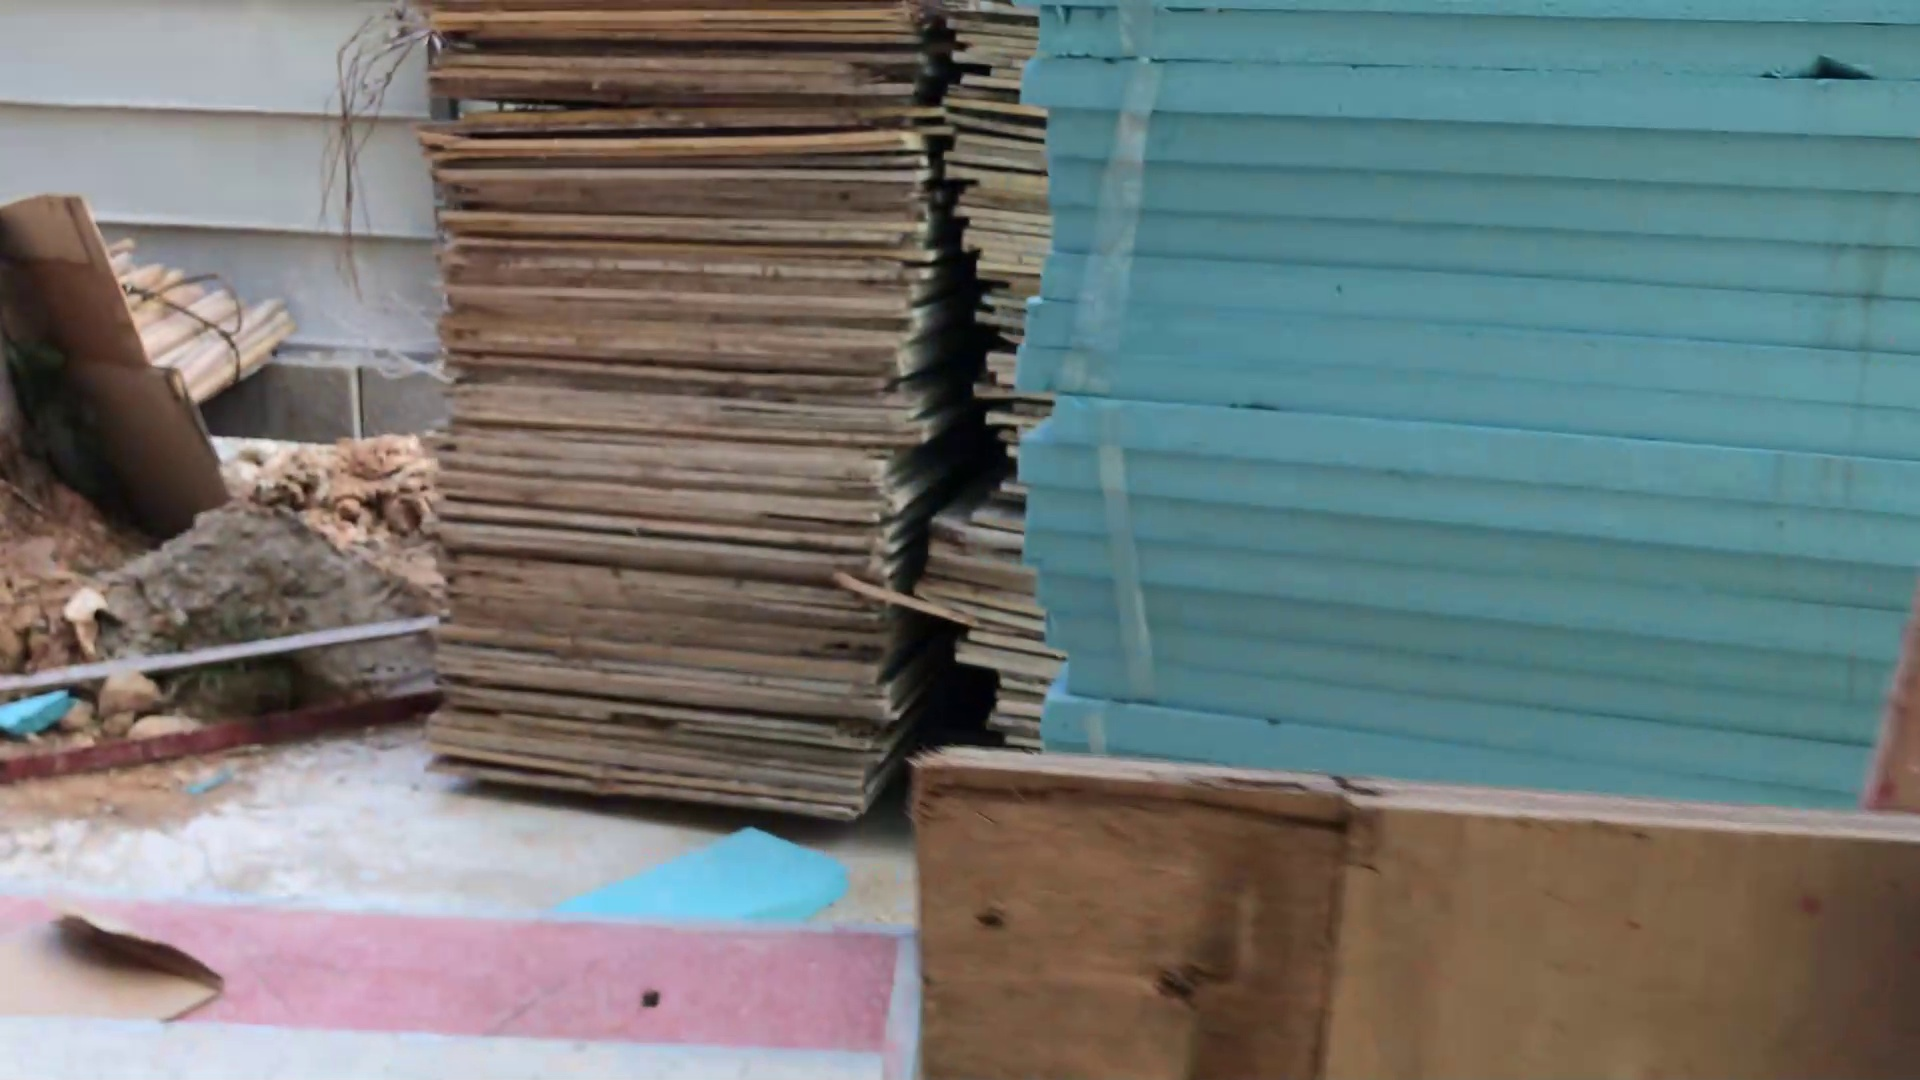board: (418, 1, 1051, 825)
